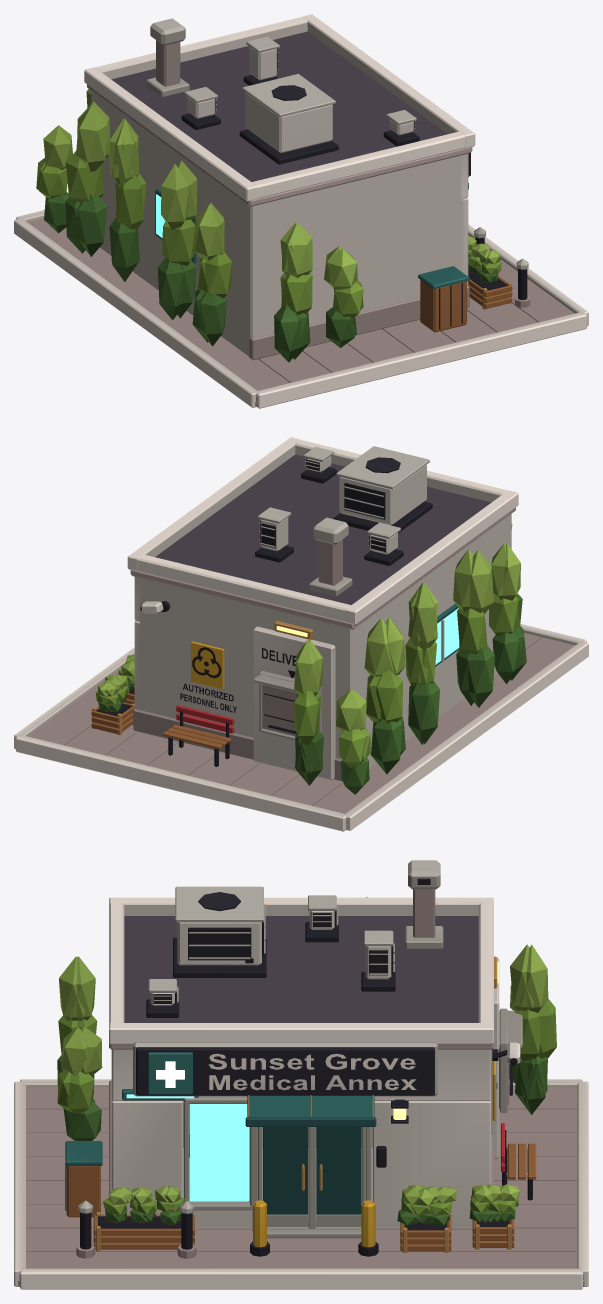
The model's file is bld.clinic-annex.lod1.glb.
The picture shows the model from 3 angles, top to bottom: view 1: azimuth 30°, elevation 25°; view 2: azimuth 150°, elevation 25°; view 3: azimuth 270°, elevation 25°; orthographic projection. The views are drawn at different scales.
Visible parts, largest first — view 1: body, roof; view 2: body, roof, door_delivery, window_rear; view 3: body, roof, window_front, window_door_R, window_door_L, door_main_right, door_main, door_delivery, interior, object 12.
Part boxes in pixels (x1,y1,x2,y2): body: (14,89,588,408); roof: (84,14,475,206); body: (14,514,588,831); roof: (127,437,518,629); door_delivery: (254,674,296,736); window_rear: (435,608,459,664); body: (14,897,588,1289); roof: (109,860,493,1049); window_front: (126,1094,249,1200); window_door_R: (316,1127,361,1214); window_door_L: (263,1127,307,1214); door_main_right: (312,1127,366,1229); door_main: (258,1127,312,1229); door_delivery: (499,1010,522,1104); interior: (183,1101,372,1222); object 12: (156,1061,406,1119).
Bounding box in the file's own units: 7.76 × 5.22 × 9.7.
